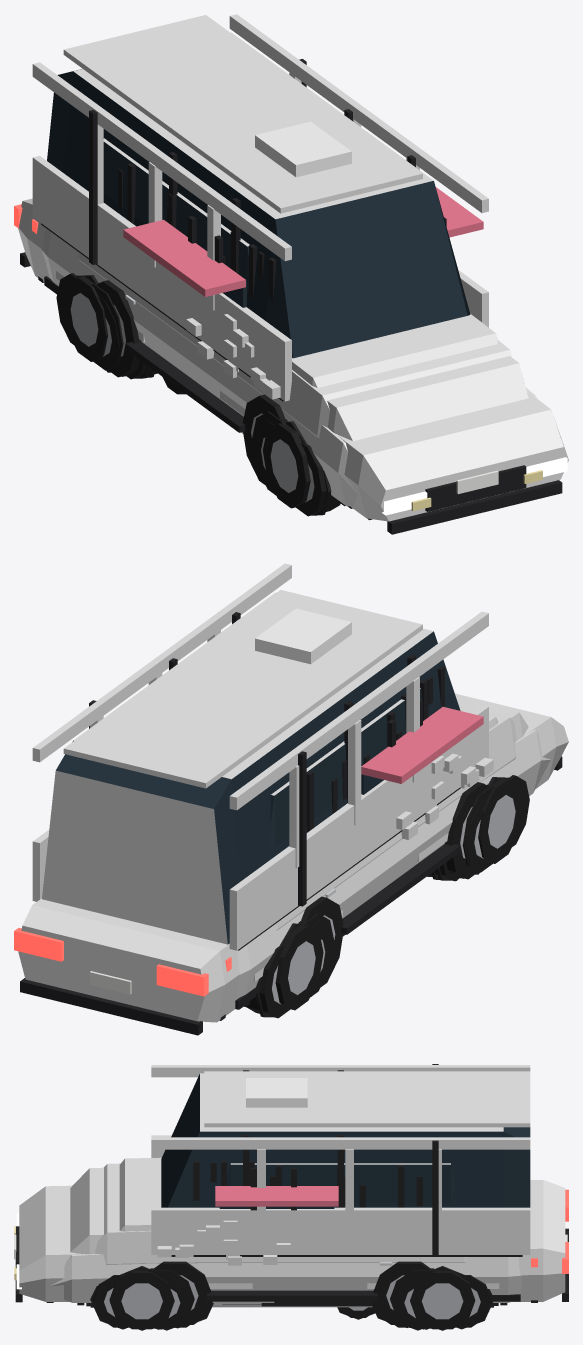
The model's file is cars_roster.glb.
3 renders of one model, top to bottom at view 1: azimuth 30°, elevation 25°; view 2: azimuth 150°, elevation 25°; view 3: azimuth 270°, elevation 25°, orthographic. The views are drawn at different scales.
Visible parts, largest first — view 1: R_minibus_Body, R_limo_Body, R_offroad_Body, R_pickup_Body, R_icecream_Body, R_suv_Body, R_minibus_Detail, R_minibus_WheelsF, R_minibus_WheelsR, R_offroad_WheelsR, R_limo_Detail, R_limo_WheelsF (+6 smaller); view 2: R_minibus_Body, R_limo_Body, R_icecream_Body, R_offroad_Body, R_minibus_WheelsR, R_suv_Body, R_minibus_WheelsF, R_minibus_Detail, R_offroad_WheelsF, R_limo_WheelsR, R_offroad_WheelsR, R_limo_Detail (+4 smaller); view 3: R_minibus_Body, R_limo_Body, R_offroad_Body, R_suv_Body, R_icecream_Body, R_minibus_WheelsF, R_minibus_WheelsR, R_pickup_Body, R_minibus_Detail, R_offroad_WheelsR, R_offroad_WheelsF, R_limo_WheelsR (+12 smaller).
Part boxes in pixels (bbox=[...]): R_minibus_Body: bbox=[32, 14, 536, 520]; R_limo_Body: bbox=[14, 198, 568, 534]; R_offroad_Body: bbox=[103, 138, 498, 432]; R_pickup_Body: bbox=[241, 342, 528, 440]; R_icecream_Body: bbox=[123, 121, 483, 382]; R_suv_Body: bbox=[78, 252, 512, 437]; R_minibus_Detail: bbox=[41, 59, 415, 444]; R_minibus_WheelsF: bbox=[262, 423, 310, 508]; R_minibus_WheelsR: bbox=[63, 276, 108, 361]; R_offroad_WheelsR: bbox=[97, 280, 141, 377]; R_limo_Detail: bbox=[312, 470, 542, 515]; R_limo_WheelsF: bbox=[296, 442, 340, 516]; R_minibus_Body: bbox=[32, 563, 550, 1020]; R_limo_Body: bbox=[14, 693, 568, 1035]; R_icecream_Body: bbox=[255, 608, 483, 794]; R_offroad_Body: bbox=[270, 688, 497, 934]; R_minibus_WheelsR: bbox=[275, 925, 323, 1010]; R_suv_Body: bbox=[273, 705, 516, 930]; R_minibus_WheelsF: bbox=[478, 778, 523, 863]; R_minibus_Detail: bbox=[89, 612, 510, 1009]; R_offroad_WheelsF: bbox=[444, 782, 489, 879]; R_limo_WheelsR: bbox=[246, 944, 290, 1018]; R_offroad_WheelsR: bbox=[301, 896, 343, 986]; R_limo_Detail: bbox=[89, 971, 272, 1017]; R_minibus_Body: bbox=[46, 1065, 537, 1302]; R_limo_Body: bbox=[15, 1180, 568, 1302]; R_offroad_Body: bbox=[119, 1157, 455, 1300]; R_suv_Body: bbox=[95, 1163, 467, 1264]; R_icecream_Body: bbox=[189, 1078, 338, 1256]; R_minibus_WheelsF: bbox=[109, 1270, 174, 1329]; R_minibus_WheelsR: bbox=[410, 1270, 475, 1329]; R_pickup_Body: bbox=[70, 1167, 211, 1254]; R_minibus_Detail: bbox=[119, 1064, 522, 1330]; R_offroad_WheelsR: bbox=[373, 1261, 430, 1327]; R_offroad_WheelsF: bbox=[154, 1261, 210, 1327]; R_limo_WheelsR: bbox=[455, 1275, 491, 1327].
Size of the model in its own units: 2.74 by 2.57 by 6.3.
